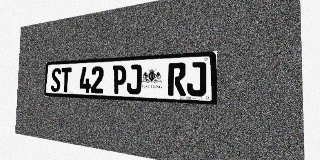2: (91, 66, 104, 93)
4: (79, 66, 91, 93)
J: (187, 62, 206, 97), (126, 64, 142, 95)
P: (112, 65, 126, 94)
R: (168, 62, 186, 96)
S: (51, 68, 61, 92)
T: (60, 67, 71, 92)
